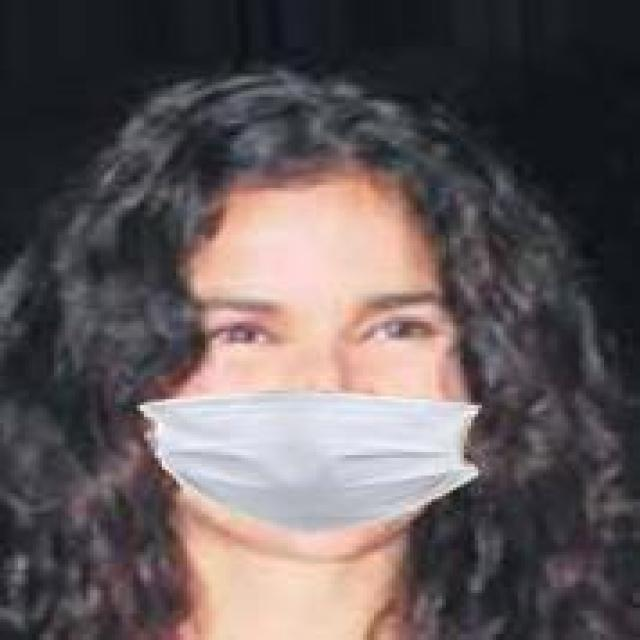mask: (140, 152, 522, 526)
